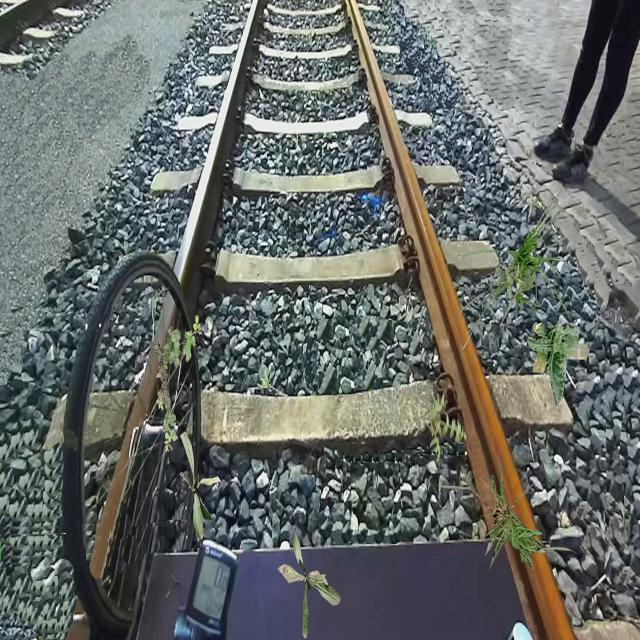Plant: (455, 187, 574, 350), (438, 454, 582, 574), (278, 527, 342, 639), (154, 316, 202, 454), (527, 323, 590, 406), (180, 431, 220, 541), (426, 392, 468, 464), (495, 259, 522, 300), (258, 368, 272, 388)
